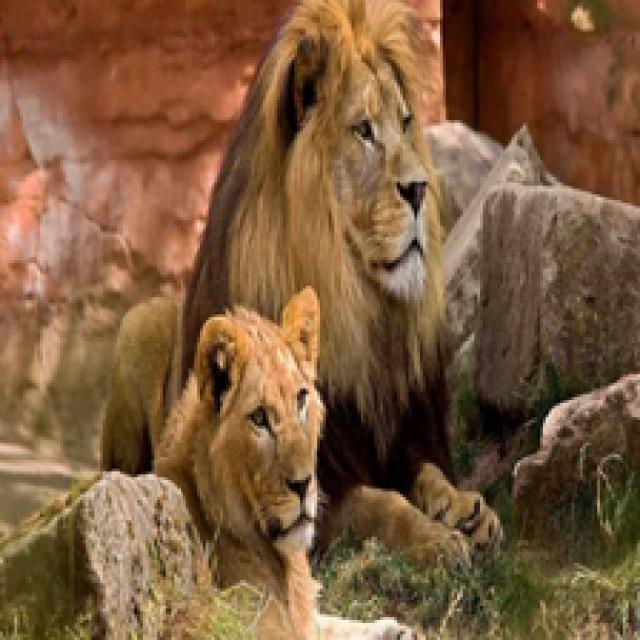lion: (174, 0, 478, 469), (92, 296, 342, 553)
